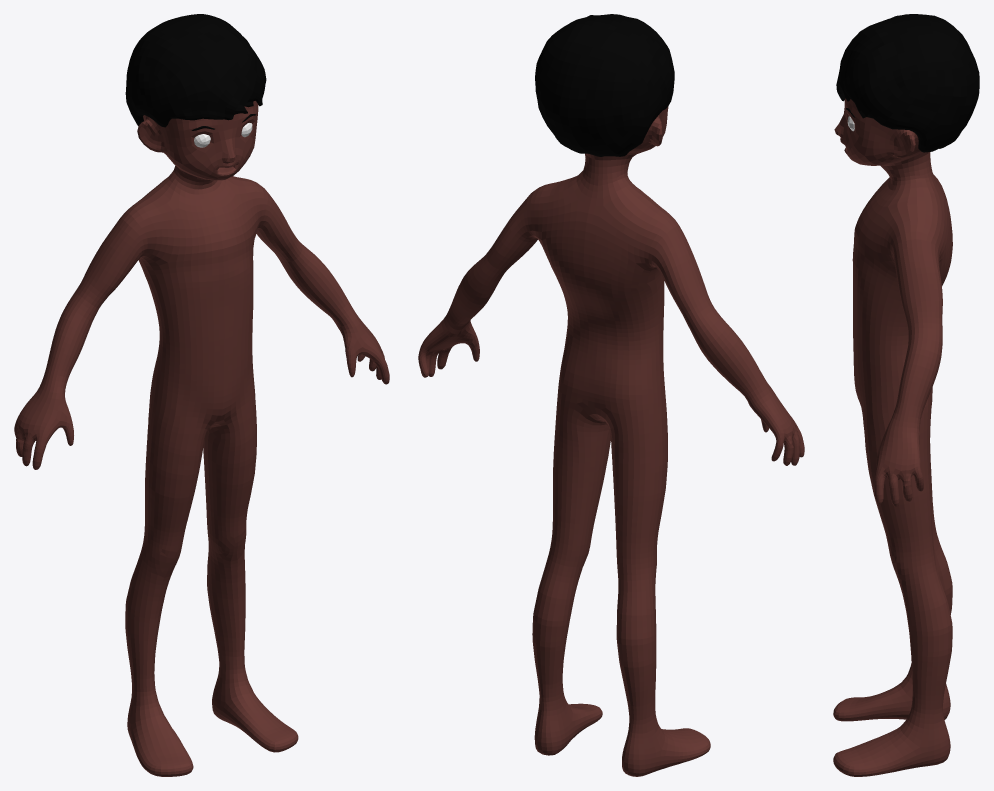
The model's file is UV_Mapped_Char_005.obj.
3 views of the same model, side by side, from view 1: azimuth 30°, elevation 25°; view 2: azimuth 150°, elevation 25°; view 3: azimuth 270°, elevation 25° (orthographic). The views are drawn at different scales.
Visible parts, largest first — view 1: Main_Body_Geo, Hair_Geo; view 2: Main_Body_Geo, Hair_Geo; view 3: Main_Body_Geo, Hair_Geo.
Part boxes in pixels (<box>): Main_Body_Geo: <box>14,101,389,776</box>; Hair_Geo: <box>125,14,266,127</box>; Main_Body_Geo: <box>418,106,804,776</box>; Hair_Geo: <box>535,14,674,156</box>; Main_Body_Geo: <box>833,98,952,776</box>; Hair_Geo: <box>836,14,979,152</box>.
Bounding box in the file's own units: 10.11 × 19.05 × 3.51.
